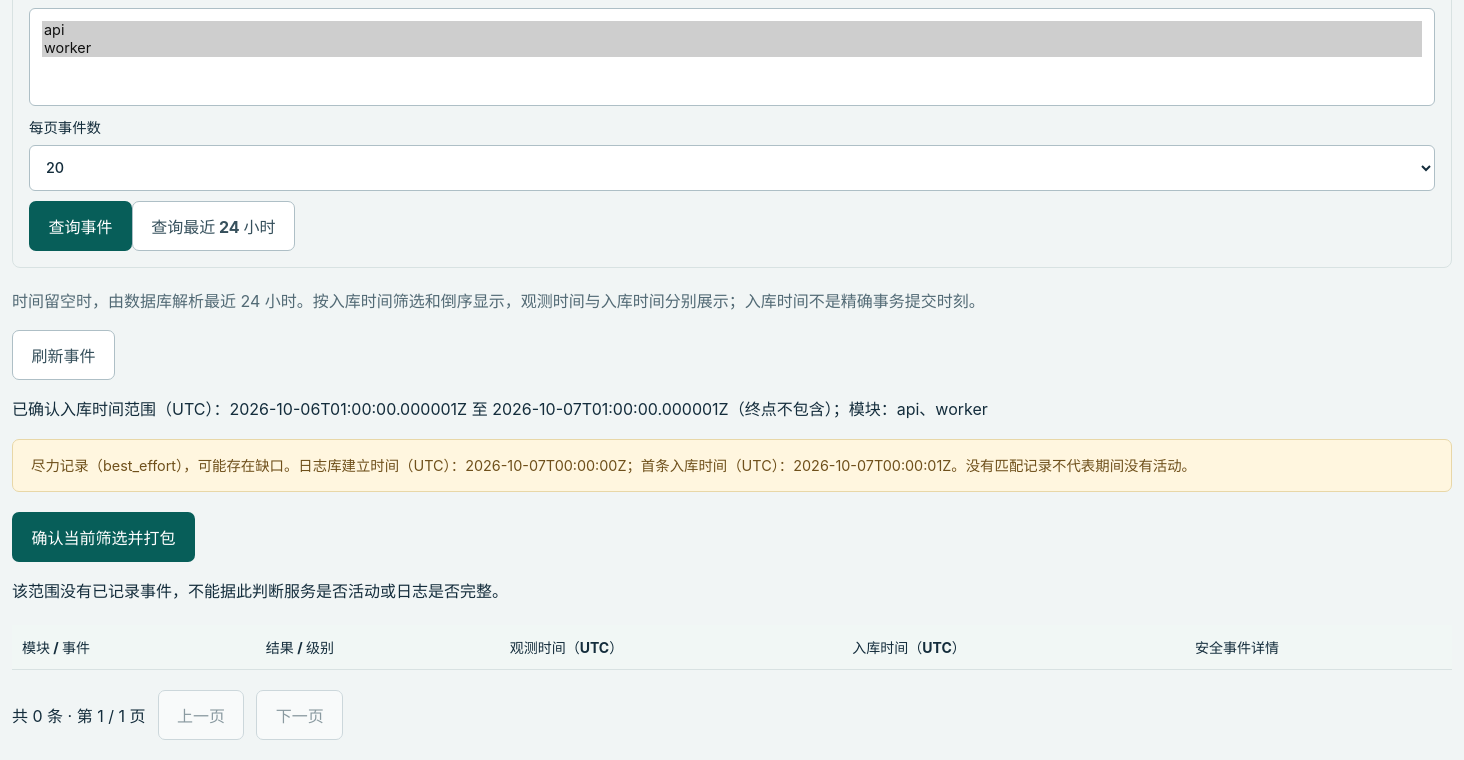
operational journal UI and interruption safety › distinguishes an empty observed range from a failed query
The image size is (1464, 760).
(page scrolled)
Expected: the table named "运行事件记录" is shown, [12,625,1452,670]
Expected: the text "该范围没有已记录事件，不能据此判断服务是否活动或日志是否完整。" is shown, [12,581,508,601]
Click the button "刷新事件" at (63, 355), box [12,330,115,380]
(page scrolled)
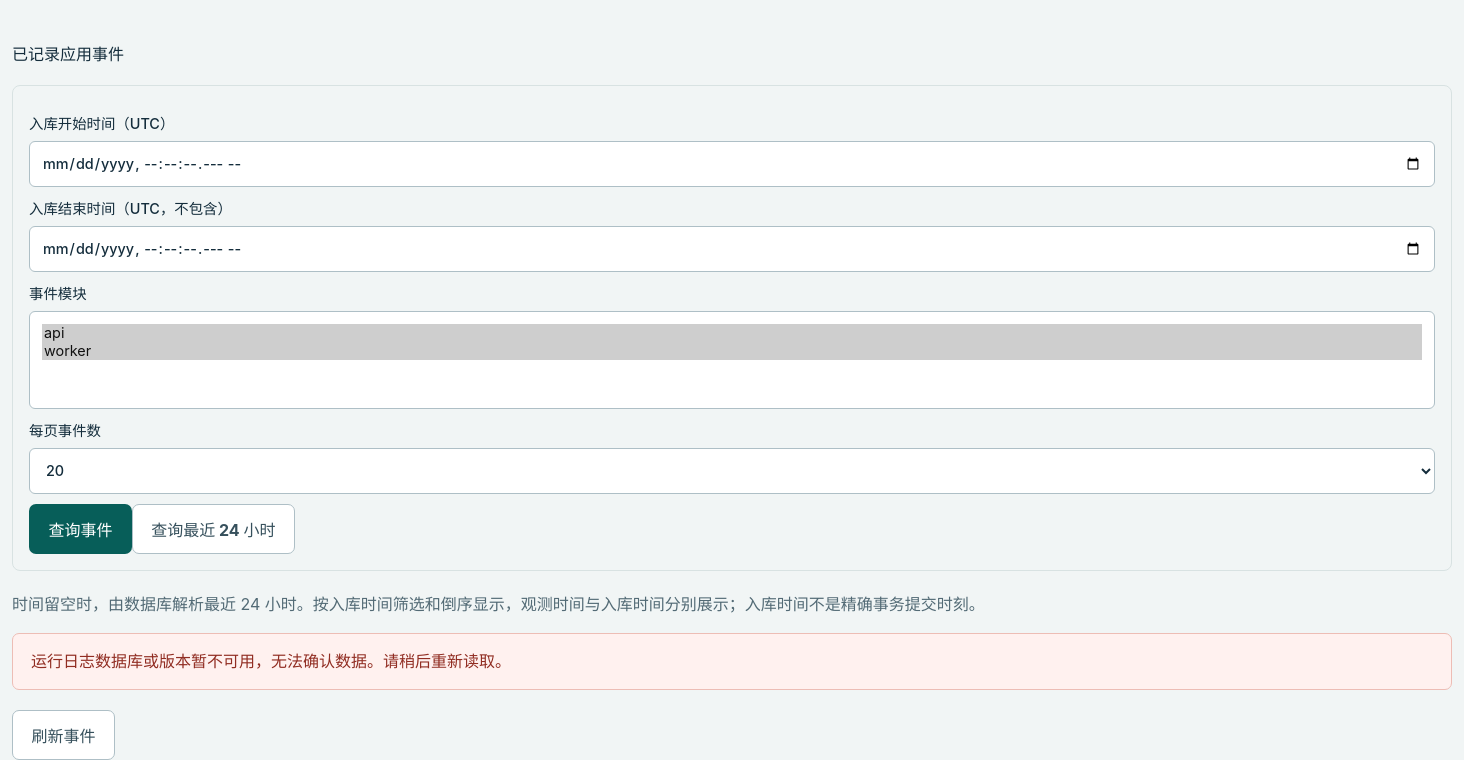
Now the message "运行日志数据库或版本暂不可用，无法确认数据。请稍后重新读取。" is shown, box [12,633,1452,690]
Now the text "该范围没有已记录事件" is gone
Now the table "运行事件记录" is gone
